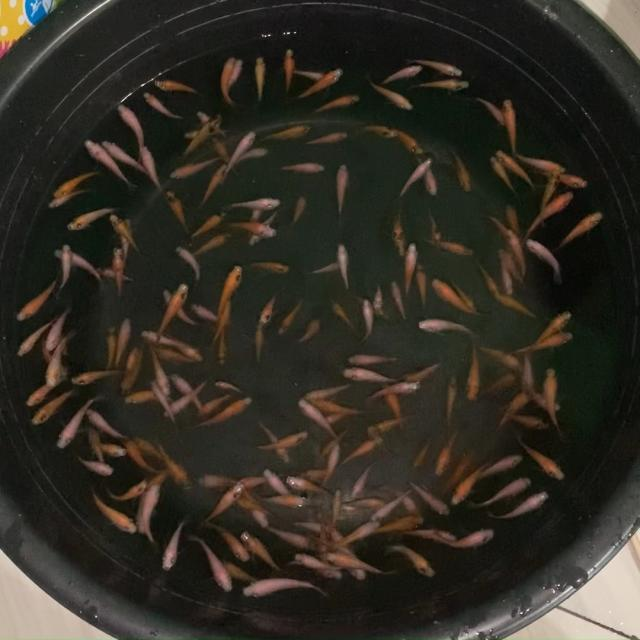nila: (430, 274, 493, 316), (81, 140, 132, 188), (190, 536, 232, 592), (56, 392, 96, 450), (524, 192, 572, 239), (320, 548, 392, 578), (516, 439, 568, 480), (543, 365, 572, 438), (157, 438, 194, 494), (100, 139, 157, 175), (490, 488, 550, 522), (478, 474, 534, 510), (54, 248, 107, 286), (198, 396, 255, 430), (524, 236, 564, 284), (368, 487, 416, 527), (448, 459, 490, 504), (294, 65, 342, 104), (46, 328, 76, 390), (383, 544, 436, 579), (16, 277, 56, 323), (220, 130, 256, 180), (156, 379, 203, 417), (158, 283, 192, 335), (94, 492, 136, 534), (560, 208, 604, 248), (296, 398, 340, 438), (239, 580, 330, 599), (178, 116, 221, 156), (132, 464, 175, 504), (203, 479, 241, 524), (364, 80, 417, 112), (493, 150, 535, 190), (86, 404, 128, 442), (514, 330, 580, 354), (262, 524, 318, 552), (168, 372, 205, 414), (398, 154, 433, 198), (358, 380, 422, 404), (160, 288, 200, 326), (415, 316, 481, 339), (213, 518, 249, 560), (118, 104, 144, 162), (409, 481, 452, 516), (50, 168, 100, 198), (513, 148, 570, 174), (243, 532, 280, 572), (30, 390, 70, 427), (120, 434, 157, 474), (482, 208, 520, 246), (216, 264, 240, 324), (332, 520, 380, 550), (17, 319, 53, 359), (494, 389, 528, 431), (65, 203, 112, 233), (536, 166, 558, 229), (242, 486, 272, 532), (410, 54, 462, 80), (478, 451, 526, 479), (257, 426, 292, 464), (146, 341, 171, 394), (115, 349, 142, 398), (440, 527, 497, 550), (424, 233, 476, 258), (506, 226, 530, 280), (538, 304, 572, 342), (111, 216, 145, 254), (446, 148, 474, 194), (542, 164, 588, 192), (480, 342, 526, 370), (142, 89, 181, 122), (433, 428, 458, 479), (501, 408, 554, 432), (162, 518, 186, 571), (495, 292, 540, 320), (396, 525, 462, 544), (488, 156, 516, 200), (255, 430, 311, 452), (145, 340, 198, 363), (40, 336, 68, 379), (46, 307, 74, 350), (198, 164, 228, 204), (237, 496, 285, 521), (146, 383, 176, 423), (133, 435, 181, 460), (493, 248, 528, 282), (190, 210, 227, 242), (110, 318, 134, 367), (193, 230, 232, 260), (288, 562, 341, 584), (463, 343, 482, 404), (138, 144, 162, 192), (104, 478, 150, 503), (216, 558, 260, 584), (277, 296, 307, 334), (311, 92, 362, 114), (210, 294, 230, 349), (388, 486, 422, 518), (25, 376, 59, 408), (384, 383, 407, 430), (290, 552, 344, 572), (339, 438, 377, 466), (340, 548, 368, 586), (249, 210, 281, 243), (504, 201, 528, 245), (335, 365, 397, 382), (481, 370, 516, 400), (373, 514, 423, 535), (414, 158, 440, 198), (475, 94, 507, 126), (476, 259, 502, 298), (176, 245, 202, 284), (171, 157, 217, 179), (288, 473, 332, 496), (414, 76, 470, 94), (290, 318, 326, 346), (334, 162, 350, 224), (502, 97, 520, 152), (314, 535, 359, 557), (140, 331, 195, 349), (221, 55, 240, 107), (448, 448, 474, 486), (169, 336, 207, 362), (164, 190, 188, 231), (310, 398, 371, 414), (321, 441, 342, 487), (154, 78, 202, 98), (369, 425, 399, 457), (225, 222, 278, 240), (290, 518, 343, 536), (402, 239, 419, 295), (301, 382, 353, 400), (70, 367, 122, 385), (134, 486, 152, 538), (258, 494, 312, 511), (349, 462, 376, 496), (258, 123, 306, 142), (344, 351, 401, 367), (75, 456, 116, 478), (262, 470, 292, 500), (146, 478, 159, 547), (303, 128, 347, 148), (213, 138, 236, 176), (317, 430, 348, 458), (233, 471, 278, 490), (411, 434, 434, 471), (413, 258, 429, 310), (194, 472, 240, 490), (380, 66, 425, 84), (197, 108, 228, 134), (96, 264, 136, 284), (118, 217, 134, 266), (196, 393, 230, 416), (88, 421, 106, 464), (527, 393, 562, 415), (245, 195, 262, 240), (404, 360, 442, 380), (58, 242, 72, 296), (393, 130, 422, 156), (337, 240, 352, 290), (122, 391, 166, 408), (223, 145, 269, 161), (446, 374, 460, 426), (424, 210, 442, 250), (214, 323, 230, 368), (48, 192, 90, 209), (391, 278, 407, 322), (178, 127, 228, 141), (105, 322, 119, 372), (189, 302, 222, 323), (309, 259, 345, 278), (500, 251, 515, 296), (454, 280, 478, 308), (92, 441, 128, 459), (360, 296, 374, 342), (330, 298, 353, 326), (226, 58, 246, 90), (358, 122, 398, 138), (248, 260, 288, 276), (258, 292, 278, 324), (314, 512, 329, 553), (521, 354, 536, 394), (339, 497, 385, 510), (291, 195, 308, 230), (227, 198, 286, 208), (114, 244, 125, 297), (254, 54, 266, 102), (283, 48, 295, 96), (252, 322, 264, 370), (330, 530, 353, 554), (292, 68, 331, 82), (373, 413, 414, 426), (276, 163, 328, 173), (124, 338, 138, 374), (391, 216, 404, 254), (299, 470, 342, 480), (372, 280, 384, 314), (323, 410, 352, 424), (213, 379, 243, 392), (393, 206, 403, 244), (332, 490, 342, 522)
